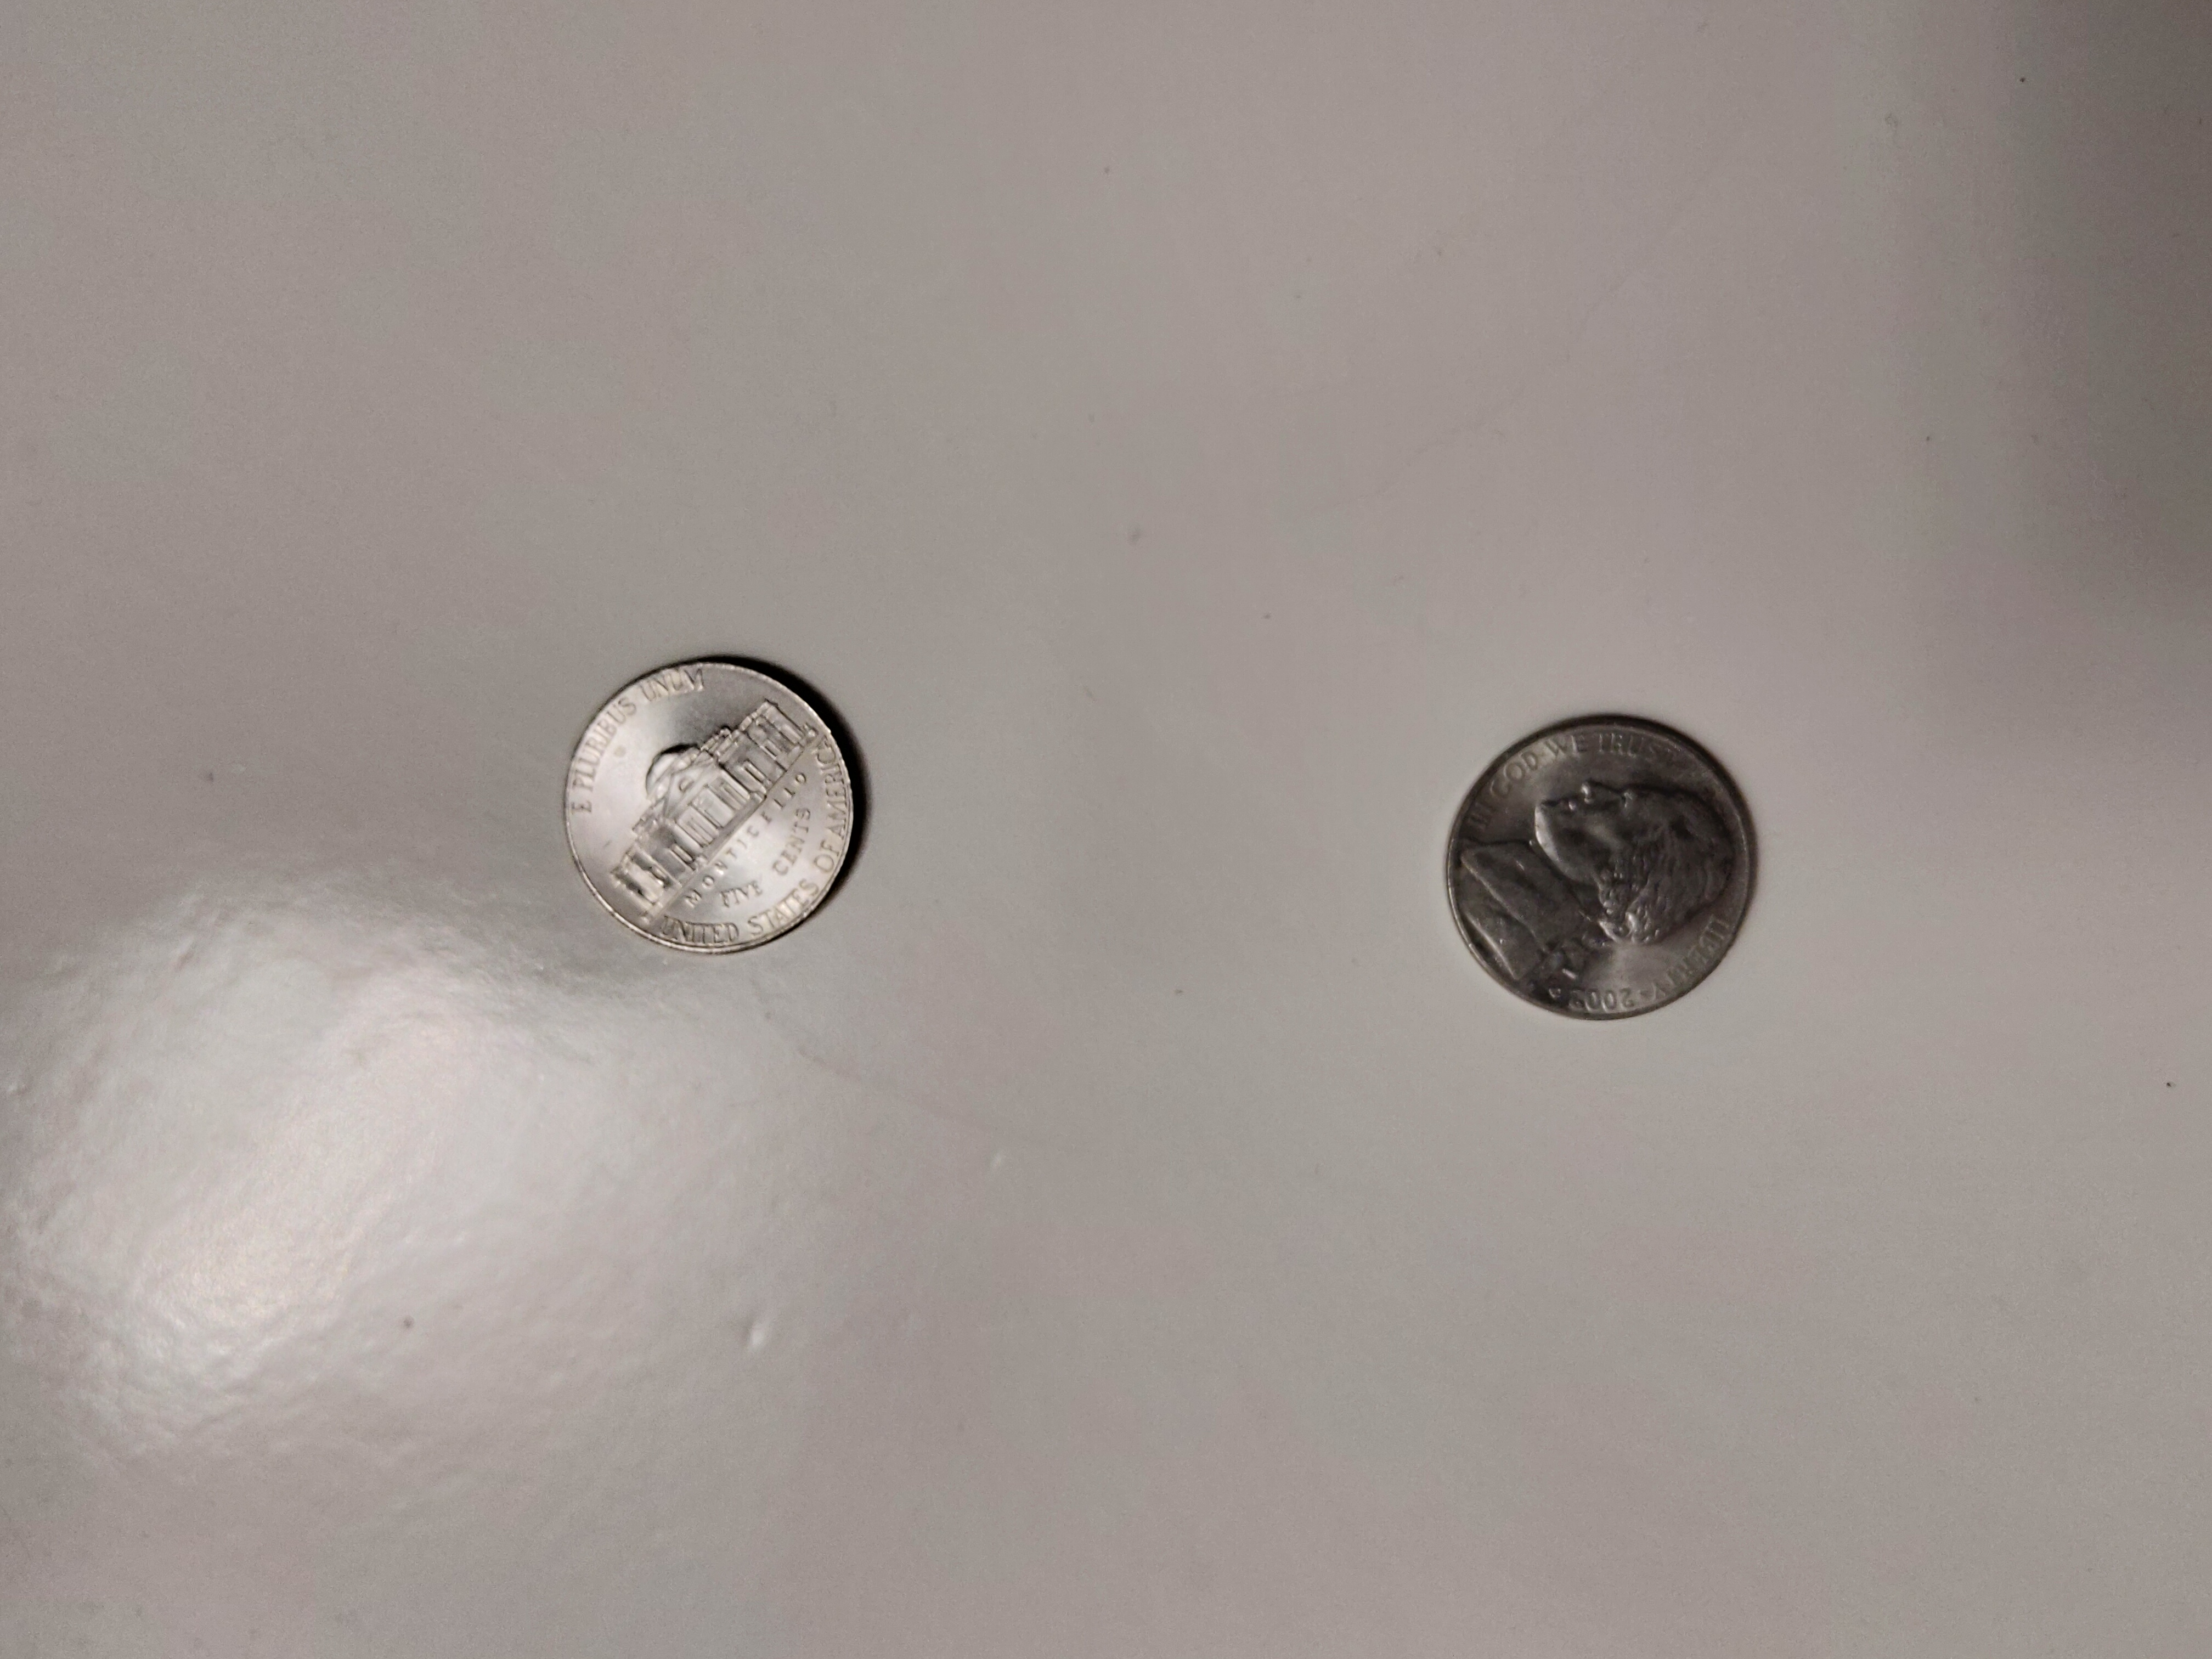Nickel: (1440, 708, 1761, 1021), (563, 657, 862, 957)
